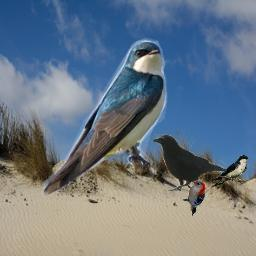Crow: (150, 133, 227, 191)
Swallow: (37, 35, 172, 198), (209, 155, 248, 189)
Woodpecker: (183, 178, 205, 217)
